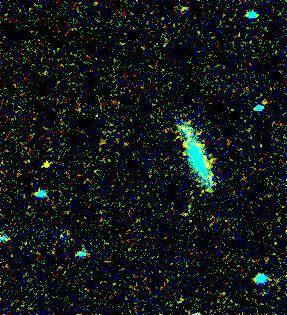star: (31, 148, 61, 178)
